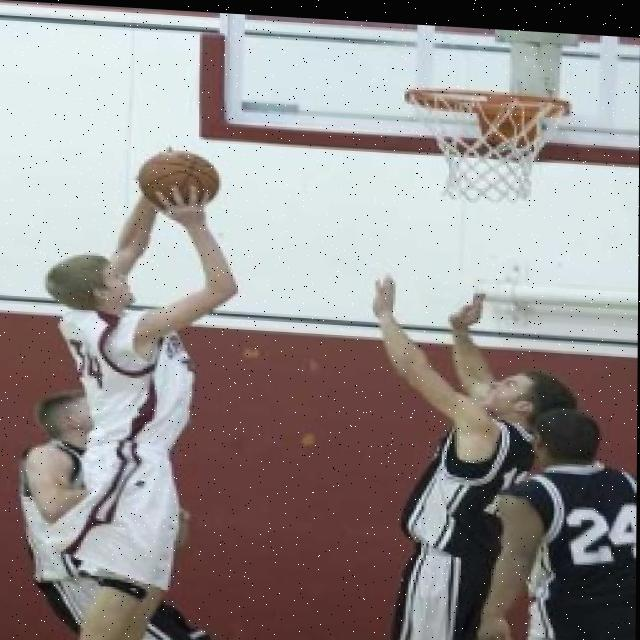basketball: (140, 137, 223, 214)
hoop: (401, 84, 578, 213)
